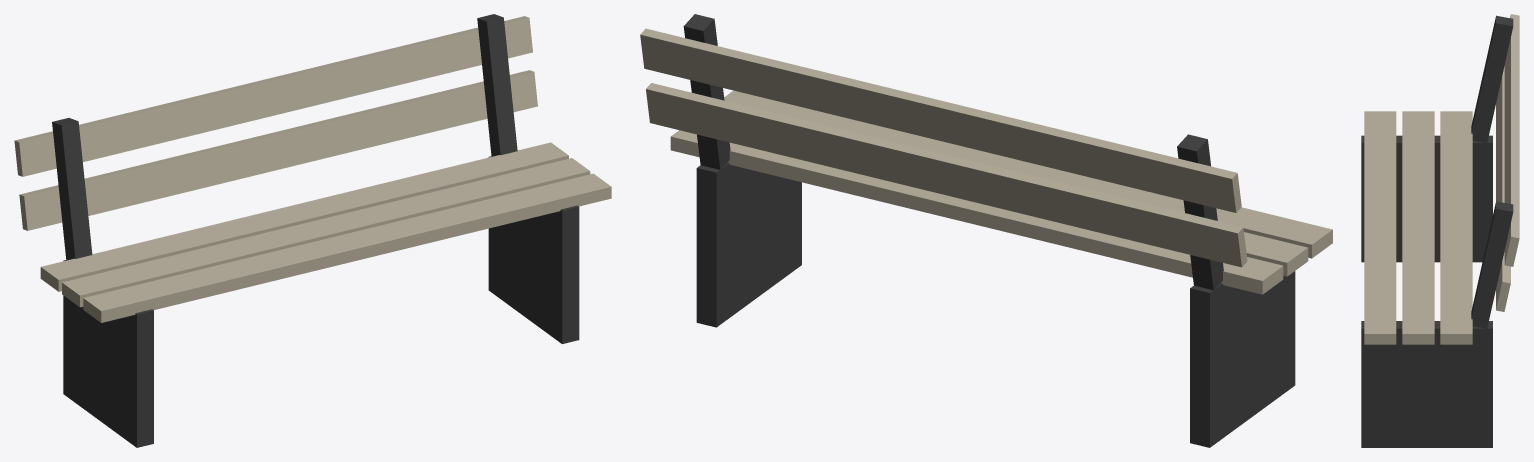
The model's file is hood_bench.glb.
3 renders of one model, left to right at view 1: azimuth 30°, elevation 25°; view 2: azimuth 150°, elevation 25°; view 3: azimuth 270°, elevation 25°, orthographic. The views are drawn at different scales.
Visible parts, largest first — view 1: back_slat, back_leg; view 2: back_slat, back_leg; view 3: back_slat, back_leg.
Part boxes in pixels (x1,y1,x2,y2): back_slat: (14, 16, 611, 322); back_leg: (52, 14, 579, 447); back_slat: (640, 28, 1332, 294); back_leg: (683, 14, 1295, 447); back_slat: (1364, 14, 1519, 344); back_leg: (1361, 15, 1513, 447).
Size of the model in its own units: 1.8 by 0.9014 by 0.5407.
